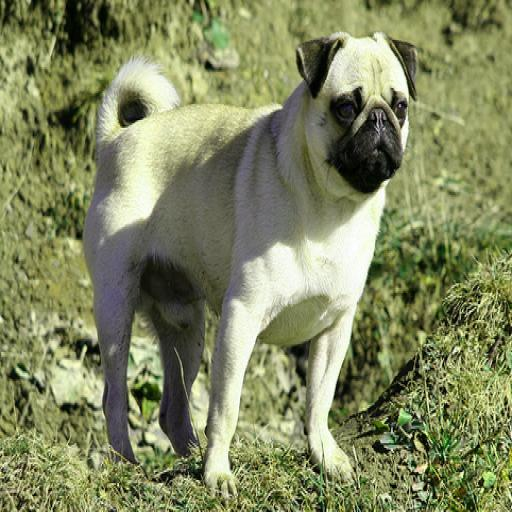dog_face: (293, 24, 422, 197)
